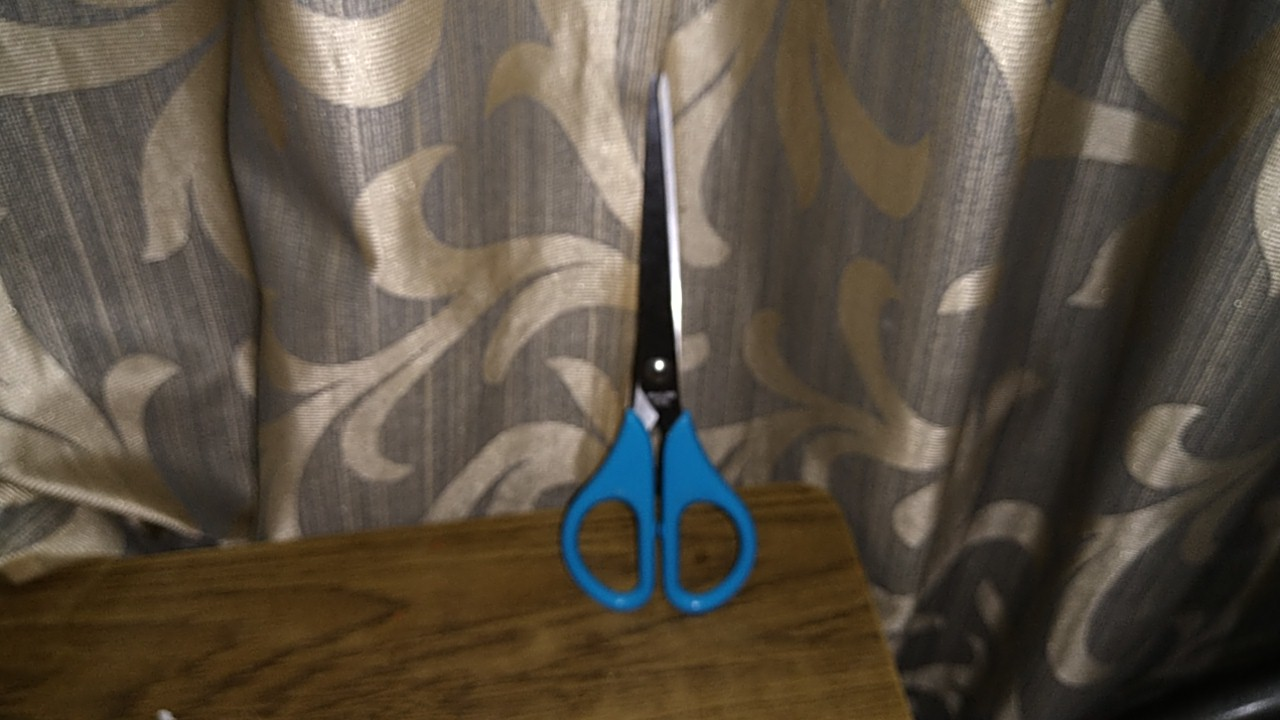scissor: (548, 61, 773, 622)
